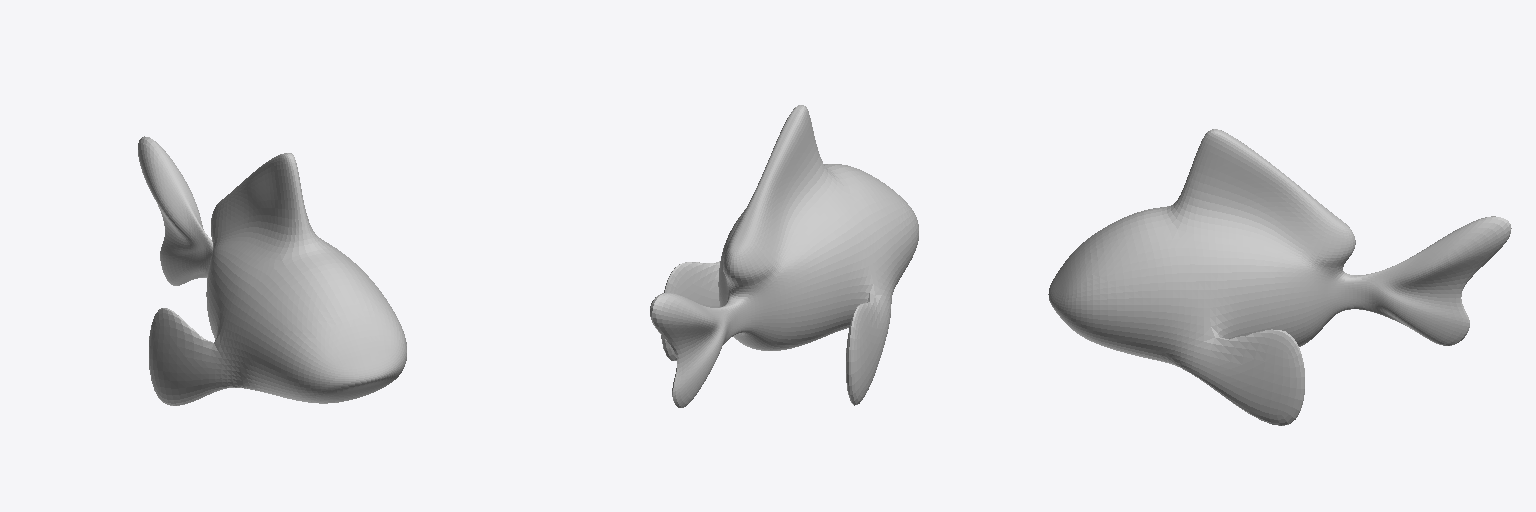
File: blub.obj
The picture shows the model from 3 angles: view 1: azimuth 30°, elevation 25°; view 2: azimuth 150°, elevation 25°; view 3: azimuth 270°, elevation 25°; orthographic projection.
Parts seen in each view (by area): view 1: blub_triangulated; view 2: blub_triangulated; view 3: blub_triangulated.
Boxes of the visible parts, box(x1,y1,x2,y2) form: blub_triangulated: box(138, 136, 406, 405); blub_triangulated: box(650, 105, 918, 407); blub_triangulated: box(1048, 129, 1511, 425).
Size of the model in its own units: 1.42 by 1.75 by 2.91.